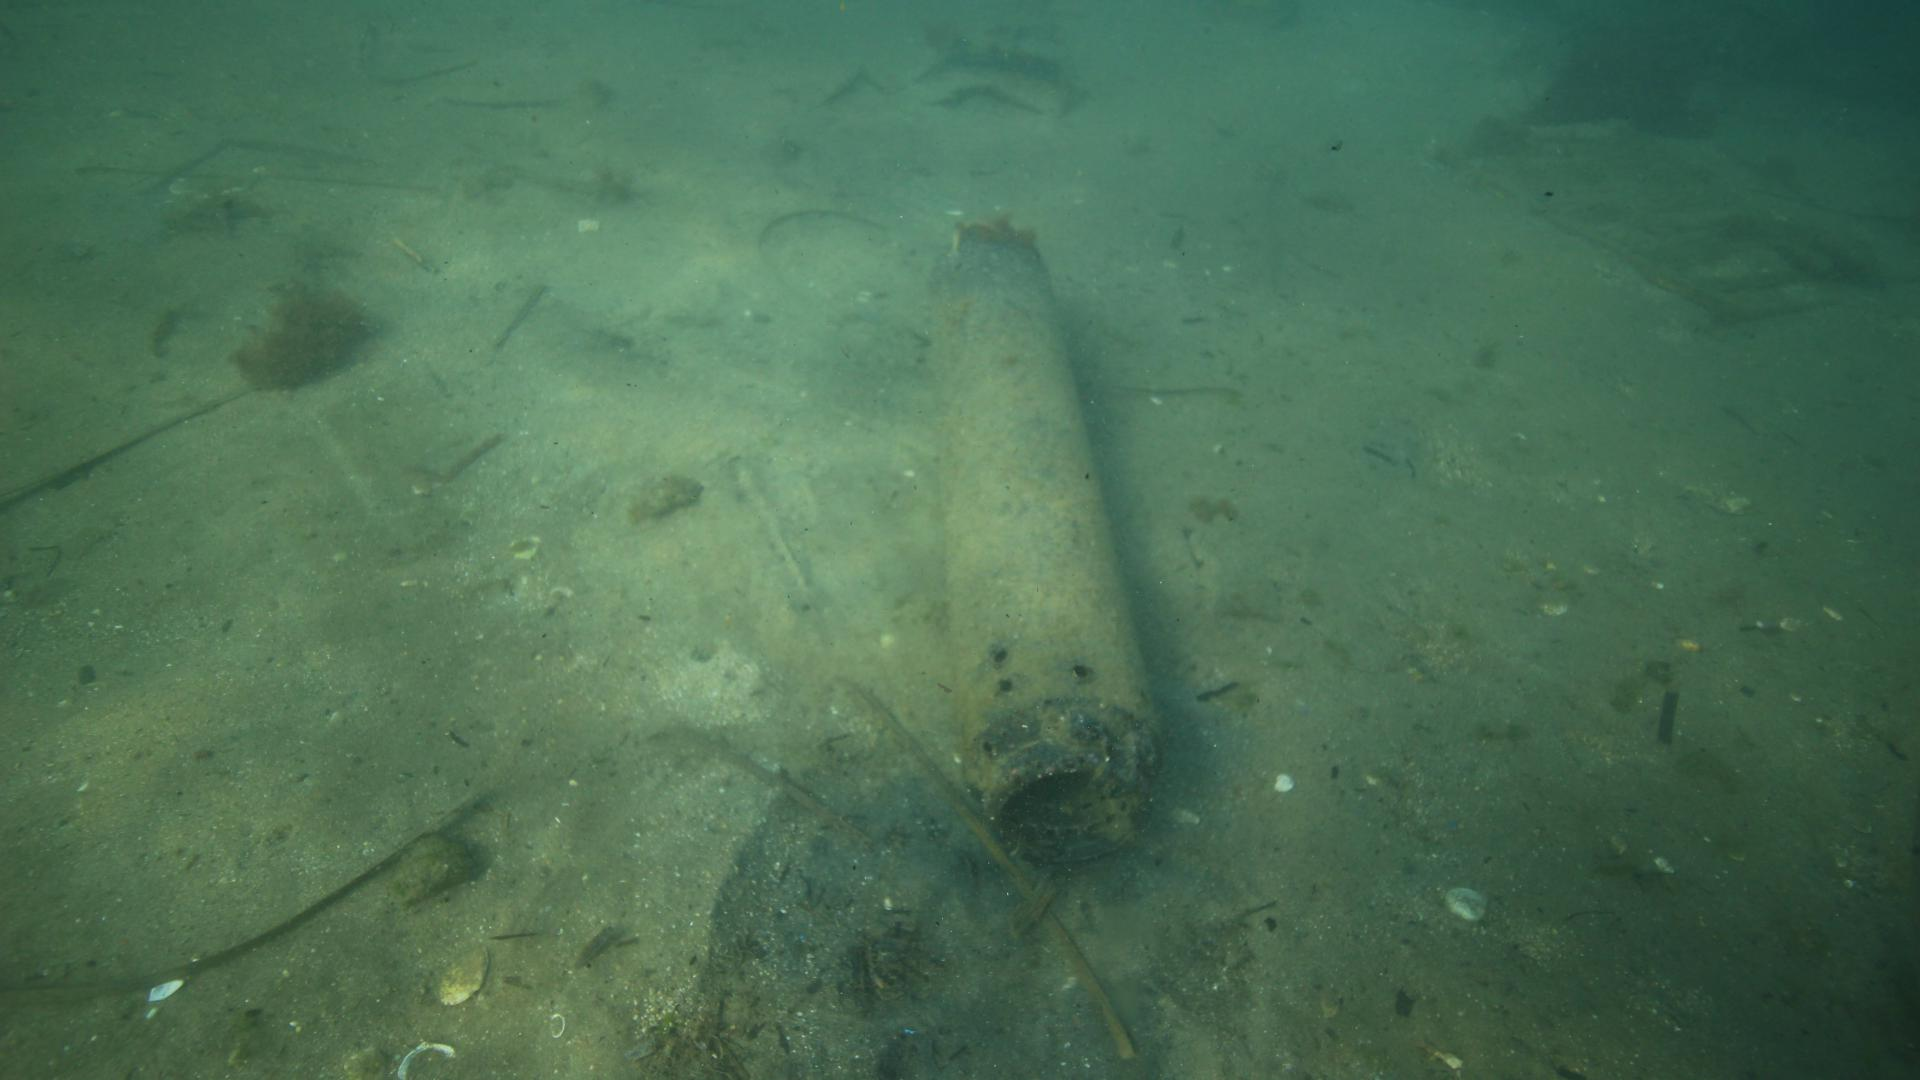eel fish trap: (927, 220, 1170, 869)
